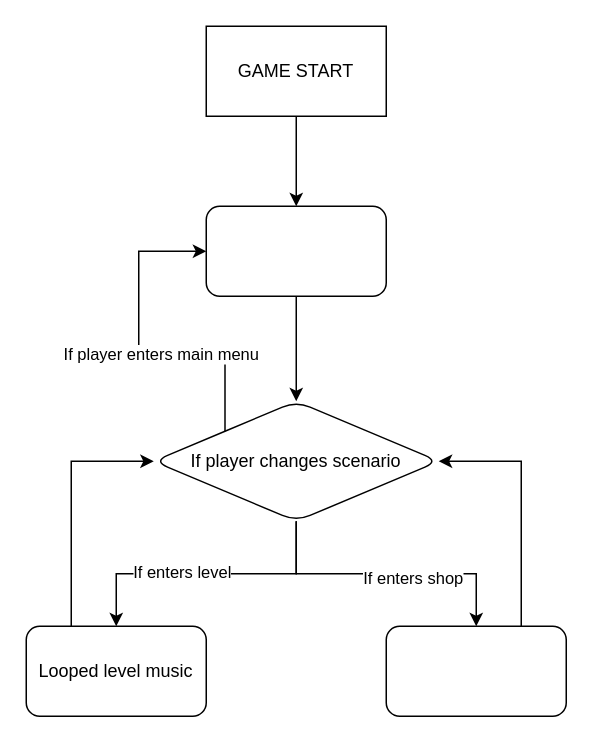
This 593x743 diagram has some shape labels left out. Each missing label, with the centre of its shape:
Looped Main menu music starts: the point at 295,250
Looped shop music: the point at 475,670
